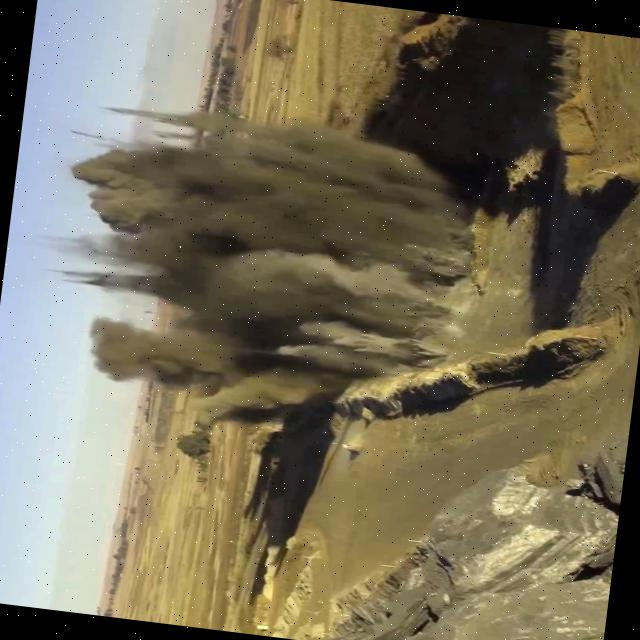explosion: (41, 74, 540, 472)
